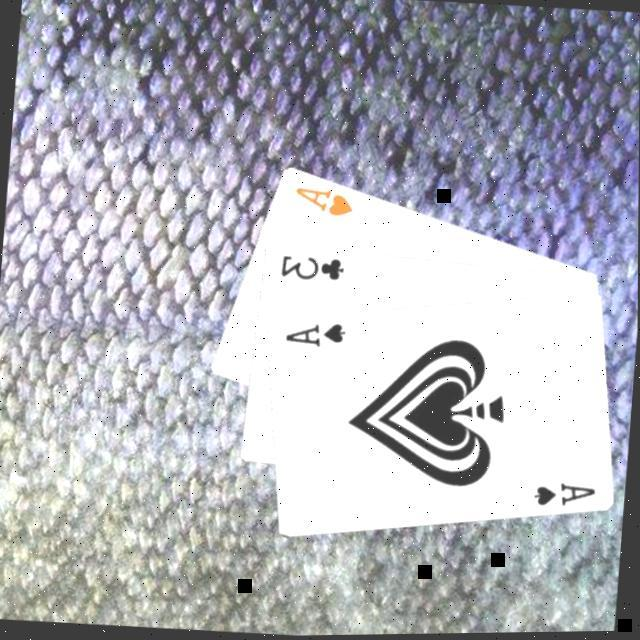3C: (279, 249, 349, 285)
AH: (291, 180, 359, 220)
AS: (531, 476, 601, 514), (282, 316, 350, 352)
